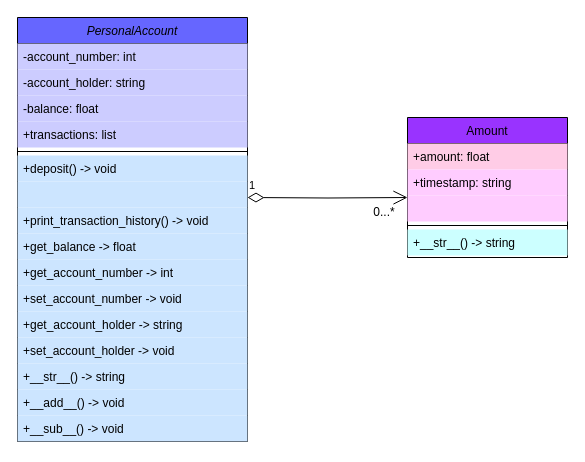
Image size: 585x462. Some labels were removed from this diagram. The box of each missing label's shape, as (x1, y1, x2, y2) in pixels:
+transaction_type: string: (407, 195, 567, 221)
+withdraw() -> void: (17, 181, 247, 207)
